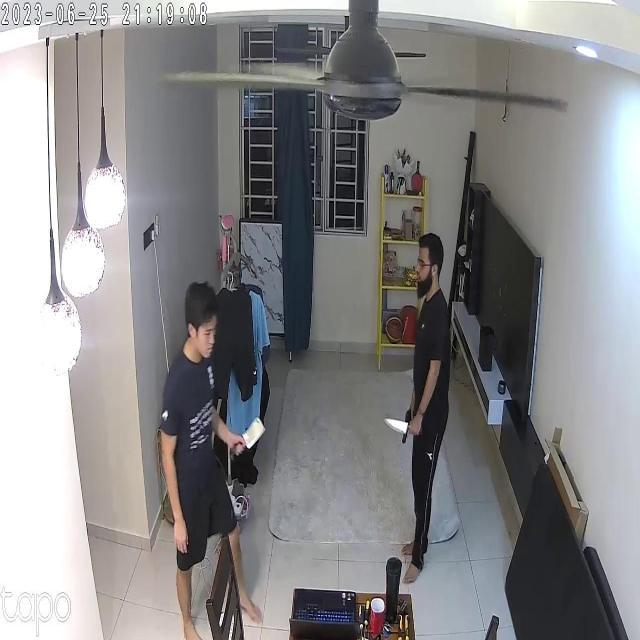Knife: (239, 414, 277, 456), (380, 407, 423, 443)
